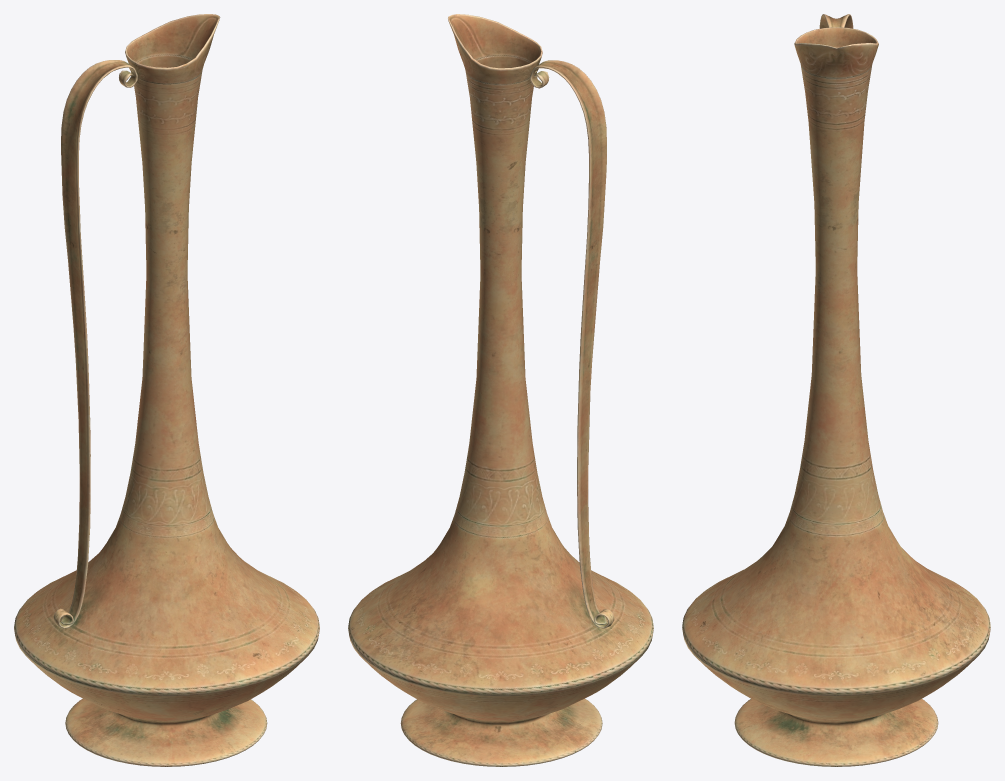
File: brass_vase_02_lod1.glb
3 renders of one model, left to right at view 1: azimuth 30°, elevation 25°; view 2: azimuth 150°, elevation 25°; view 3: azimuth 270°, elevation 25°, orthographic.
Parts seen in each view (by area): view 1: brass_vase_02; view 2: brass_vase_02; view 3: brass_vase_02.
Part boxes in pixels (x1,y1,x2,y2): brass_vase_02: (14,14,319,766); brass_vase_02: (348,14,653,766); brass_vase_02: (682,14,990,766).
Size of the model in its own units: 0.2102 by 0.5286 by 0.2102.
Materials: 1 (1 with a texture image).
